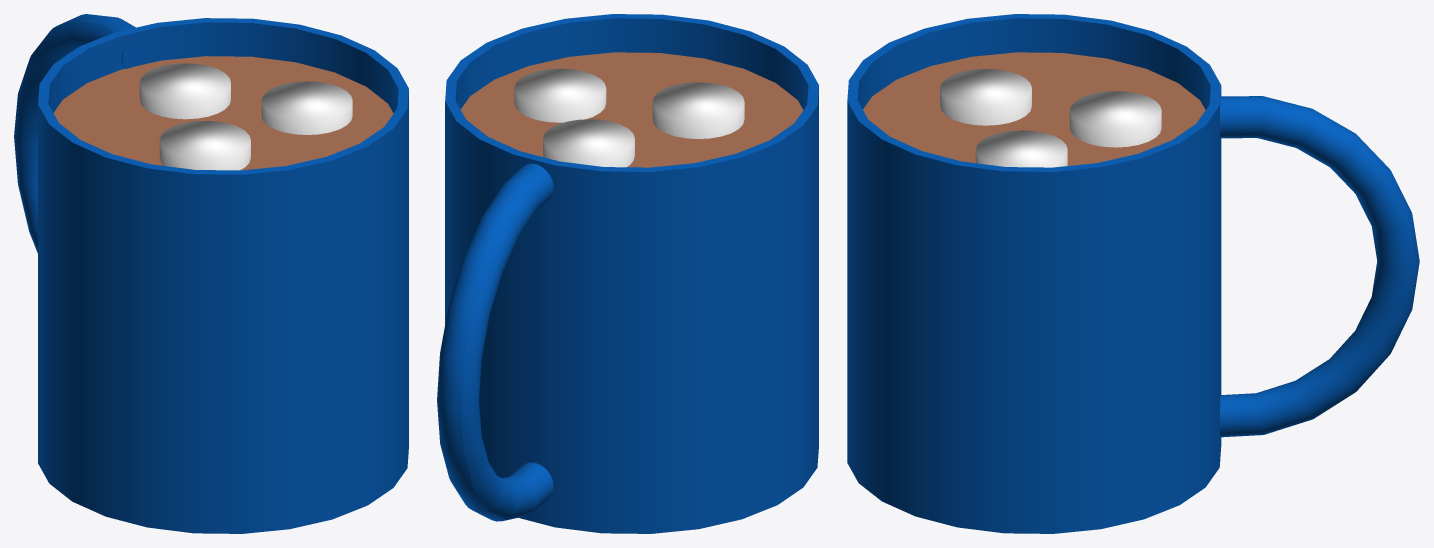
3 renders of one model, left to right at view 1: azimuth 30°, elevation 25°; view 2: azimuth 150°, elevation 25°; view 3: azimuth 270°, elevation 25°, orthographic.
Parts seen in each view (by area): view 1: mesh5_mesh5-geometry_2, mesh5_mesh5-geometry_3, mesh1_mesh1-geometry, mesh4_mesh4-geometry_1, mesh4_mesh4-geometry_2, mesh4_mesh4-geometry; view 2: mesh5_mesh5-geometry_2, mesh1_mesh1-geometry, mesh5_mesh5-geometry_3, mesh4_mesh4-geometry, mesh4_mesh4-geometry_2, mesh4_mesh4-geometry_1; view 3: mesh5_mesh5-geometry_2, mesh1_mesh1-geometry, mesh5_mesh5-geometry_3, mesh4_mesh4-geometry, mesh4_mesh4-geometry_1, mesh4_mesh4-geometry_2.
Boxes of the visible parts, left/top/right/bottom form: mesh5_mesh5-geometry_2: left=38, top=18, right=408, bottom=533; mesh5_mesh5-geometry_3: left=53, top=56, right=393, bottom=170; mesh1_mesh1-geometry: left=14, top=14, right=135, bottom=253; mesh4_mesh4-geometry_1: left=139, top=63, right=230, bottom=119; mesh4_mesh4-geometry_2: left=261, top=81, right=352, bottom=134; mesh4_mesh4-geometry: left=159, top=121, right=250, bottom=170; mesh5_mesh5-geometry_2: left=445, top=14, right=818, bottom=533; mesh1_mesh1-geometry: left=437, top=163, right=553, bottom=521; mesh5_mesh5-geometry_3: left=460, top=52, right=803, bottom=167; mesh4_mesh4-geometry: left=652, top=82, right=744, bottom=138; mesh4_mesh4-geometry_2: left=514, top=68, right=606, bottom=122; mesh4_mesh4-geometry_1: left=543, top=119, right=634, bottom=167; mesh5_mesh5-geometry_2: left=847, top=14, right=1221, bottom=533; mesh1_mesh1-geometry: left=1220, top=96, right=1419, bottom=437; mesh5_mesh5-geometry_3: left=863, top=52, right=1205, bottom=165; mesh4_mesh4-geometry: left=940, top=69, right=1031, bottom=125; mesh4_mesh4-geometry_1: left=1069, top=91, right=1161, bottom=147; mesh4_mesh4-geometry_2: left=975, top=130, right=1067, bottom=167.
Bounding box in the file's own units: 0.4722 × 0.5045 × 0.7228.
